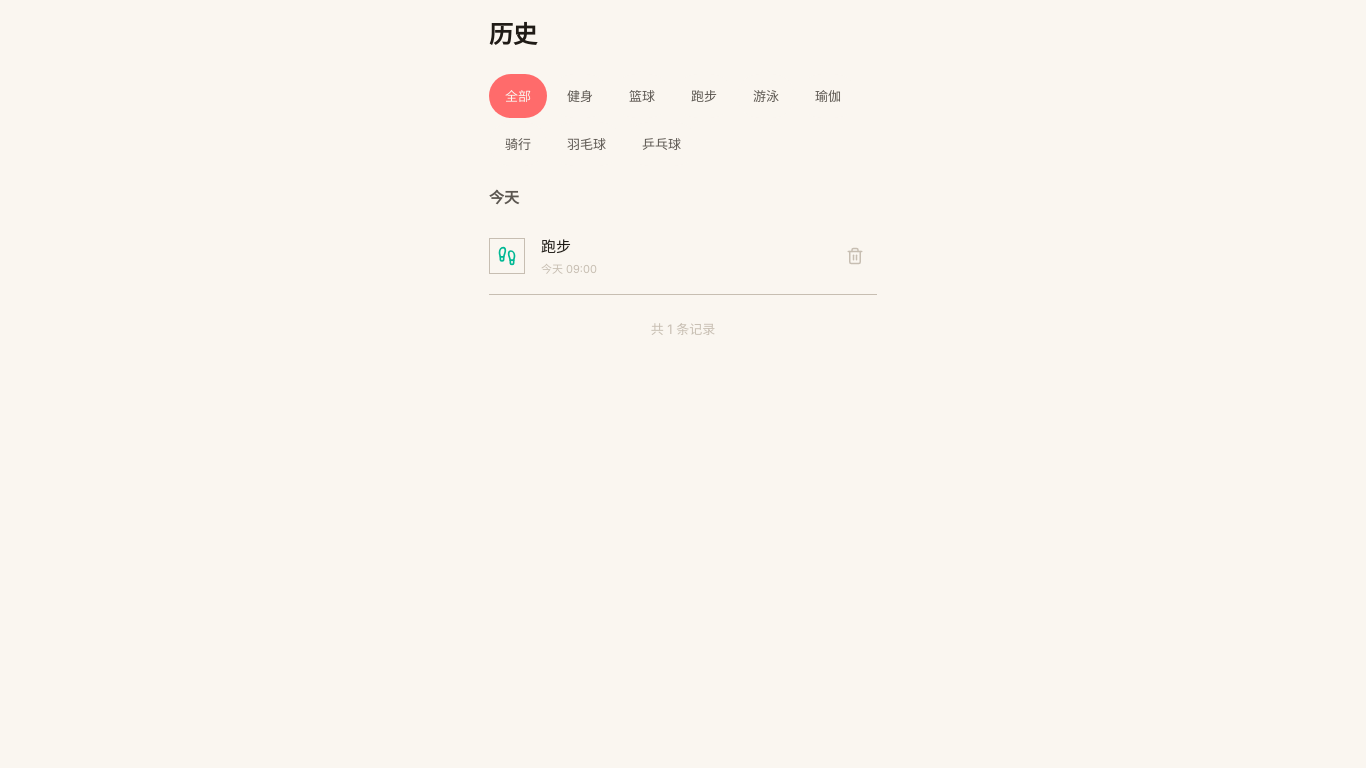
Scenario: History 历史记录页 › 点击删除按钮弹出确认弹窗
Expected: the element with test id "group-今天" is shown, x1=489 y1=186 x2=877 y2=295
Click the button named "删除" at (855, 256), box x1=833 y1=234 x2=877 y2=278
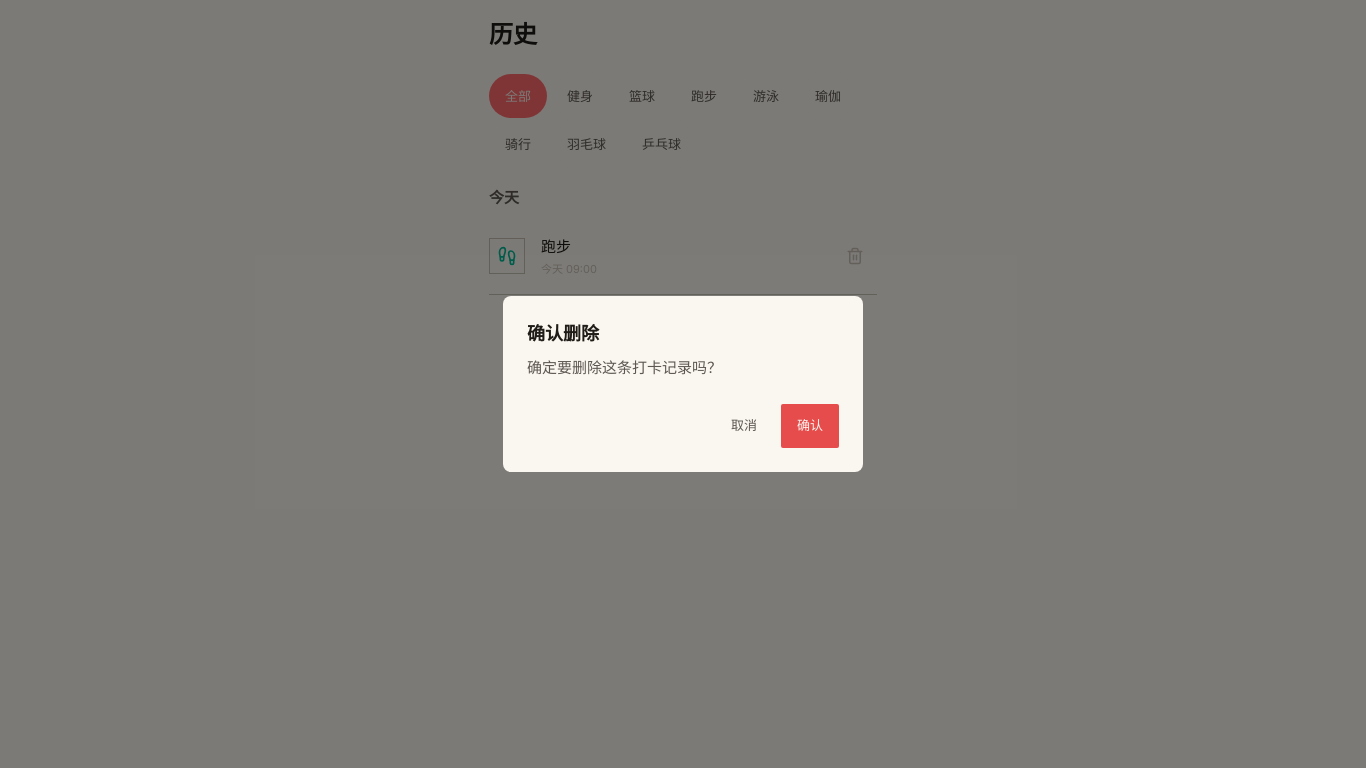
Now the dialog with test id "confirm-dialog-backdrop" is shown
